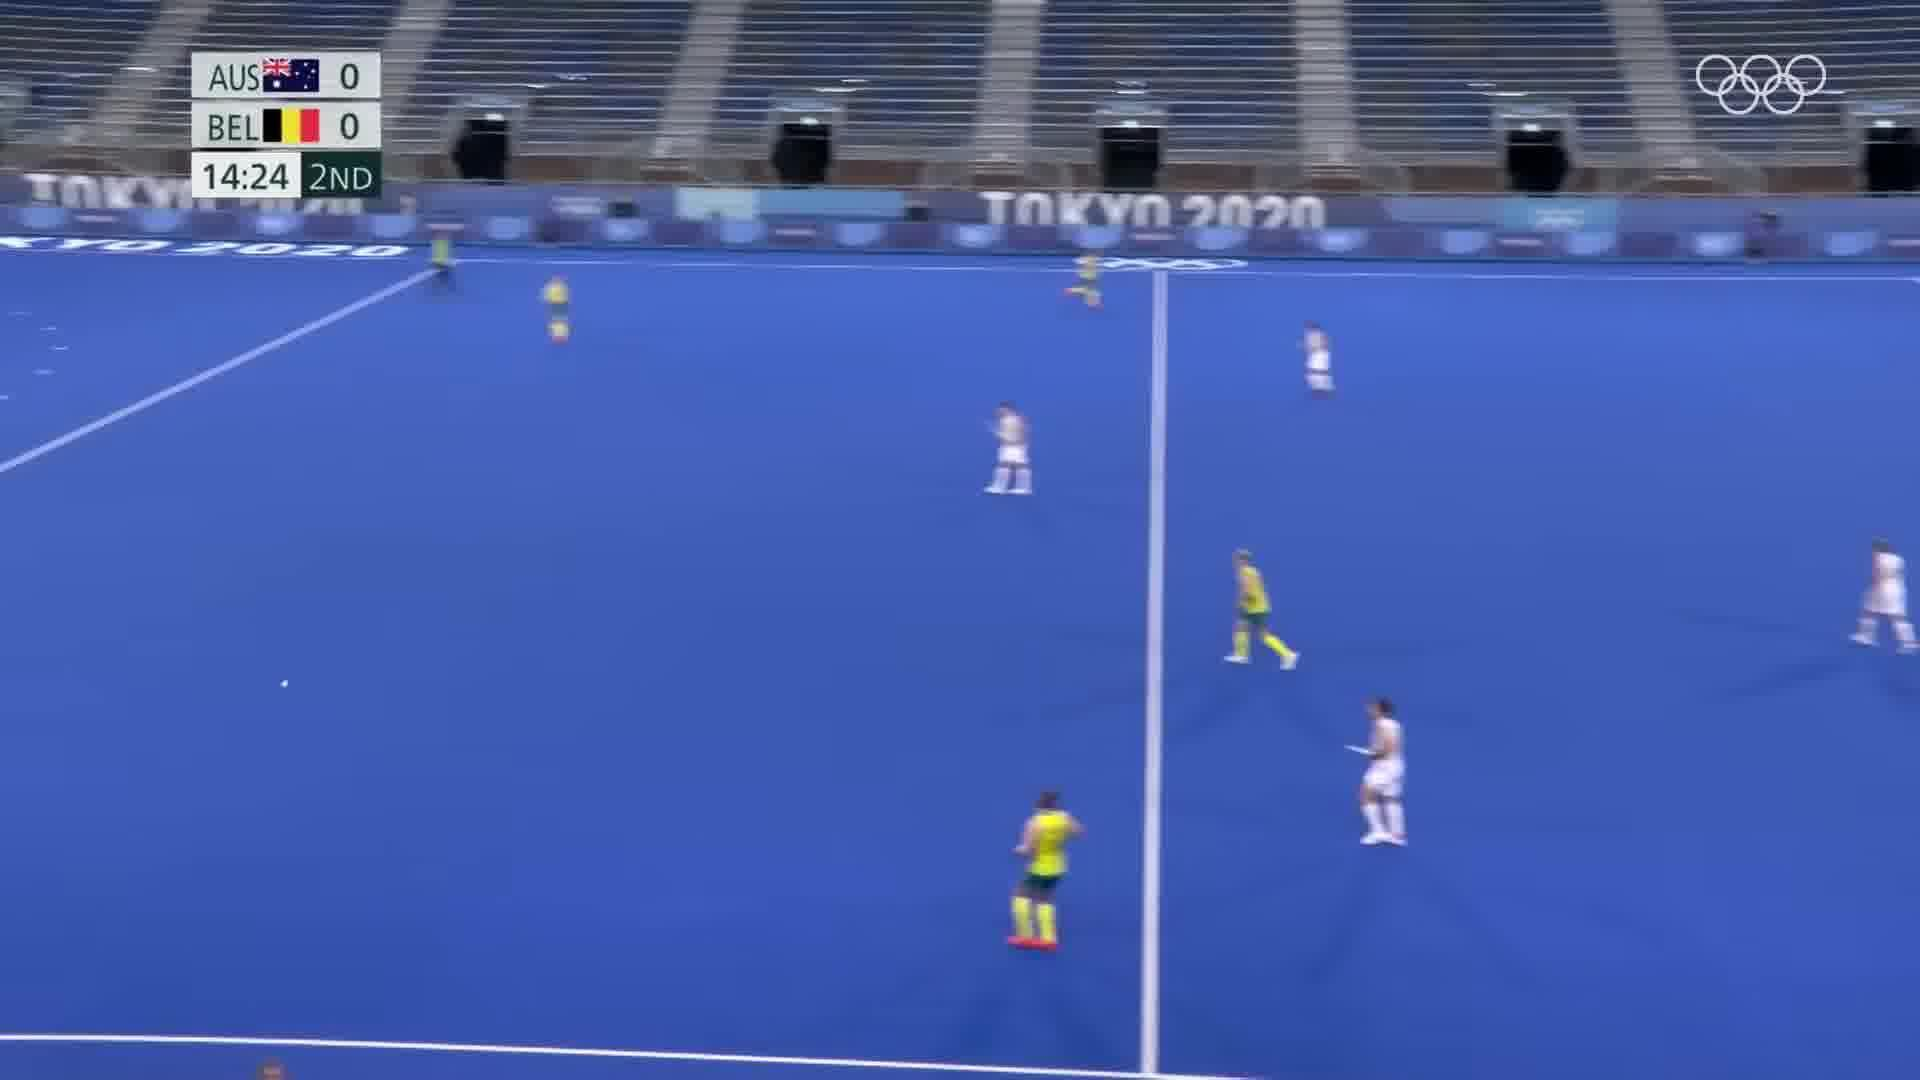ball: (276, 673, 301, 703)
